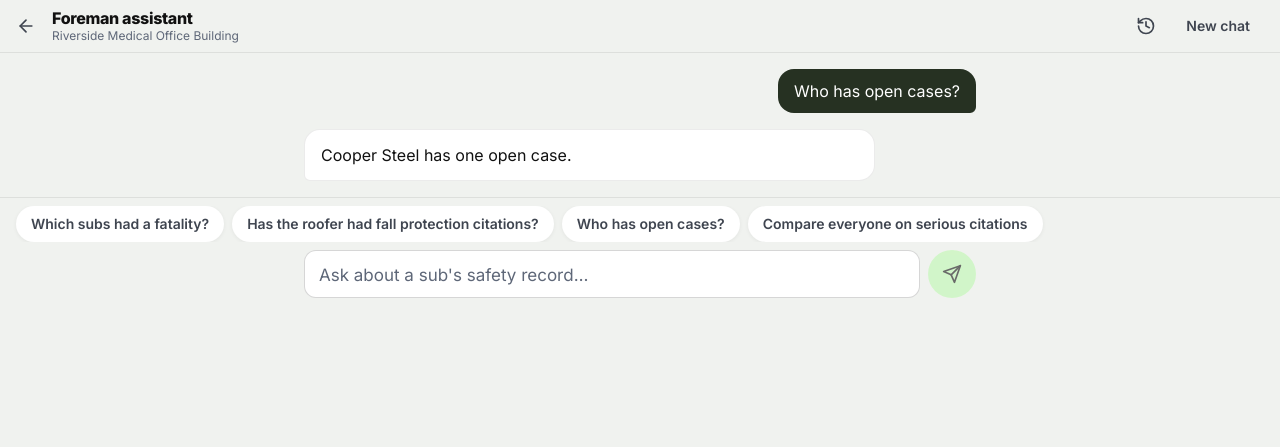
Foreman chat › reopens the chat this tab had open, from the server, and keeps asking in it
Expected: the text "Cooper Steel has one open case." is shown, 321,145 -> 572,165
Step 1. Type "Since when?" into the text box named "Your question" → (612, 274), box 304,250 -> 920,298
Then press Enter
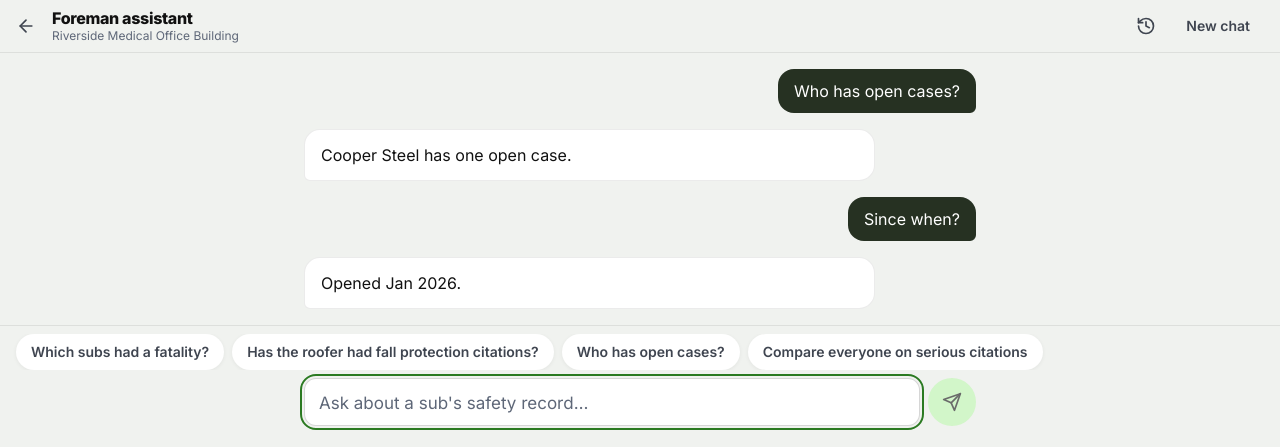
Expected: the text "Opened Jan 2026." is shown, 321,273 -> 461,293
